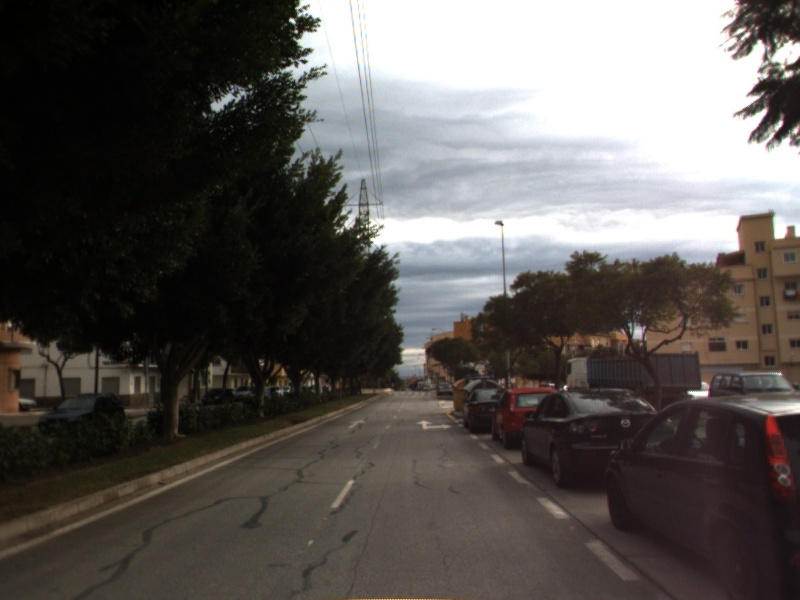STRAIGHT: (345, 416, 368, 430)
STRAIGHT_RIGHT: (413, 417, 455, 432)
